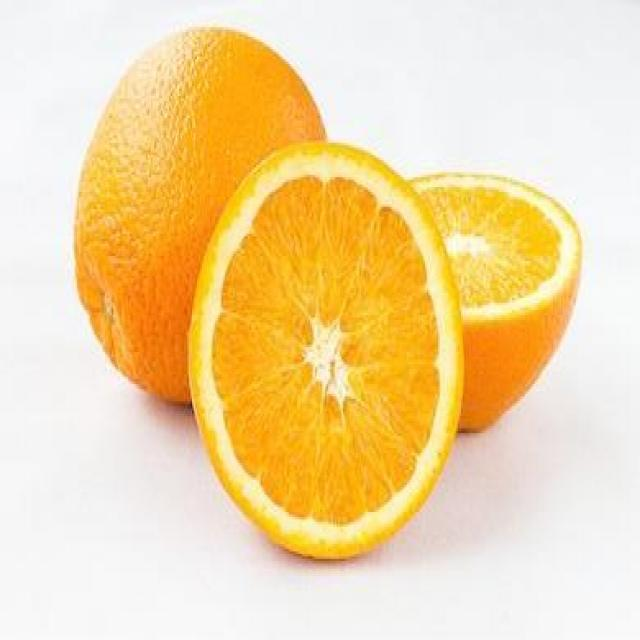orange: (190, 142, 457, 560), (63, 31, 190, 424), (461, 149, 588, 451)
